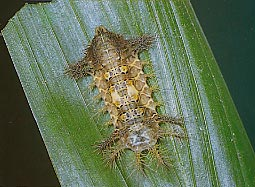Pest! (nettle_caterpillar): (71, 14, 191, 171)
